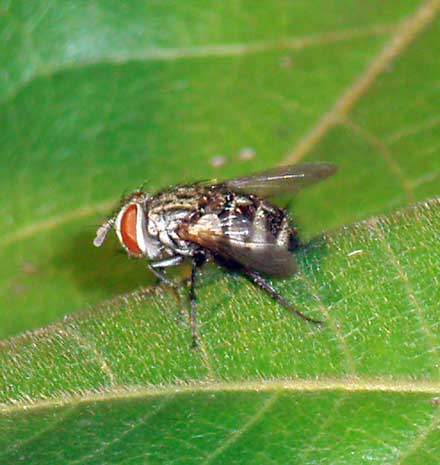green bottles fly: (81, 147, 368, 348)
